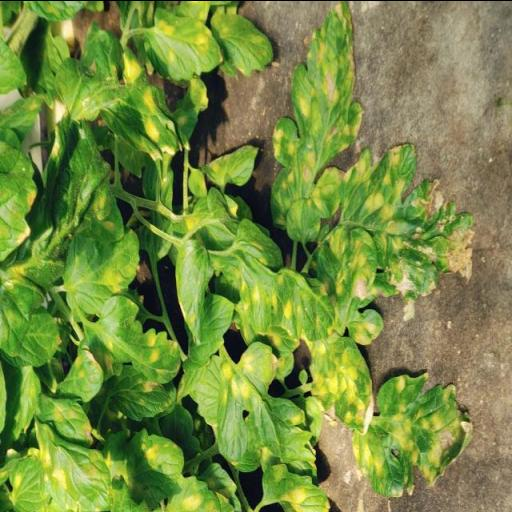Leaf Mold: (338, 142, 474, 300), (268, 0, 362, 228), (54, 28, 182, 160), (351, 370, 475, 496), (227, 218, 337, 352), (216, 341, 316, 463), (308, 223, 384, 344), (79, 294, 181, 384), (64, 218, 140, 322), (310, 330, 376, 434), (142, 6, 224, 80), (210, 13, 274, 79), (175, 238, 214, 344)
